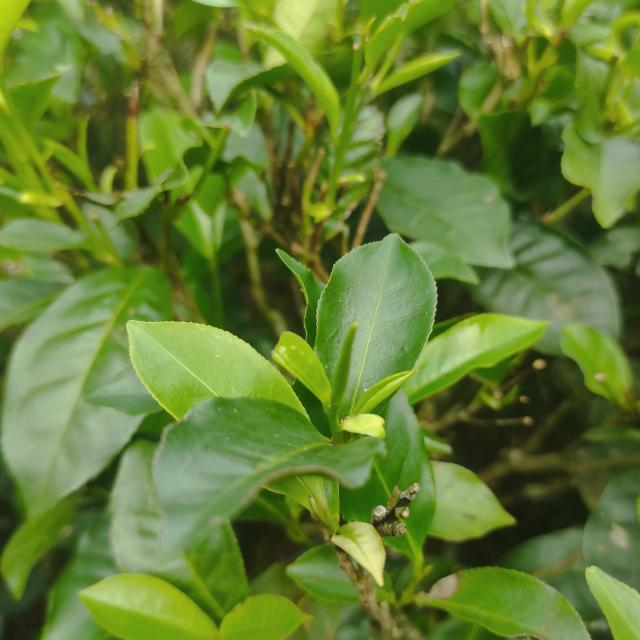unopened_leaf: (318, 315, 364, 423)
